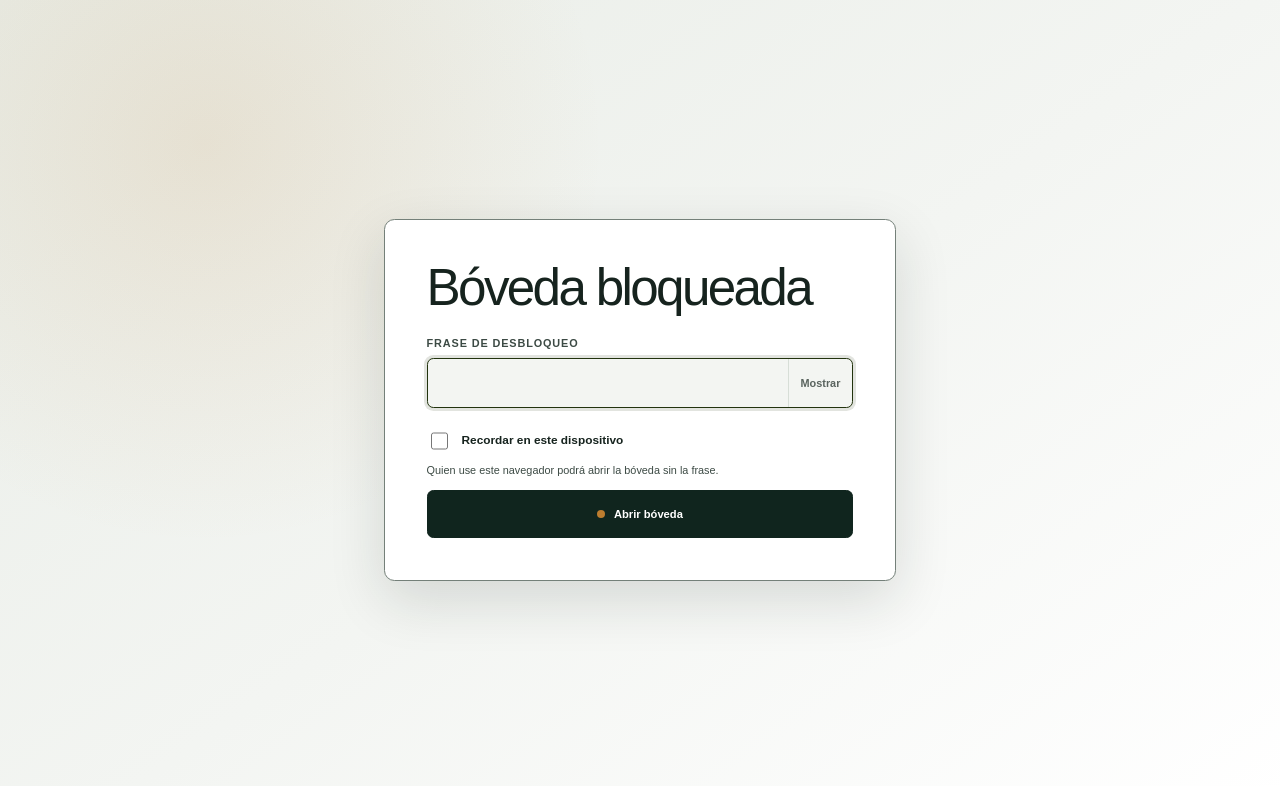
Test: App integration › opens a direct URL below a Vite base path
In the password field labelled "Frase de desbloqueo": (608, 383) [428,359,788,407], type "correct horse battery staple"
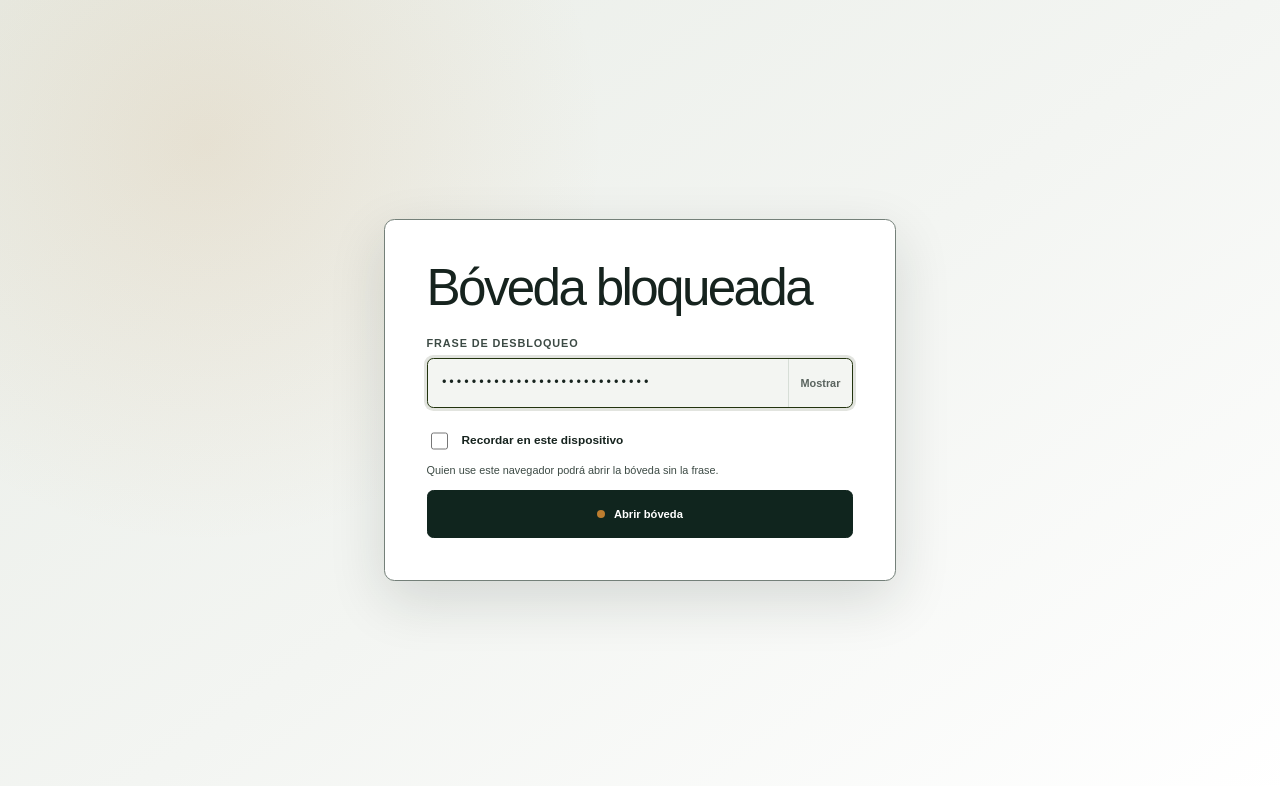
Click the button "Abrir bóveda": (640, 514) [427,490,853,538]
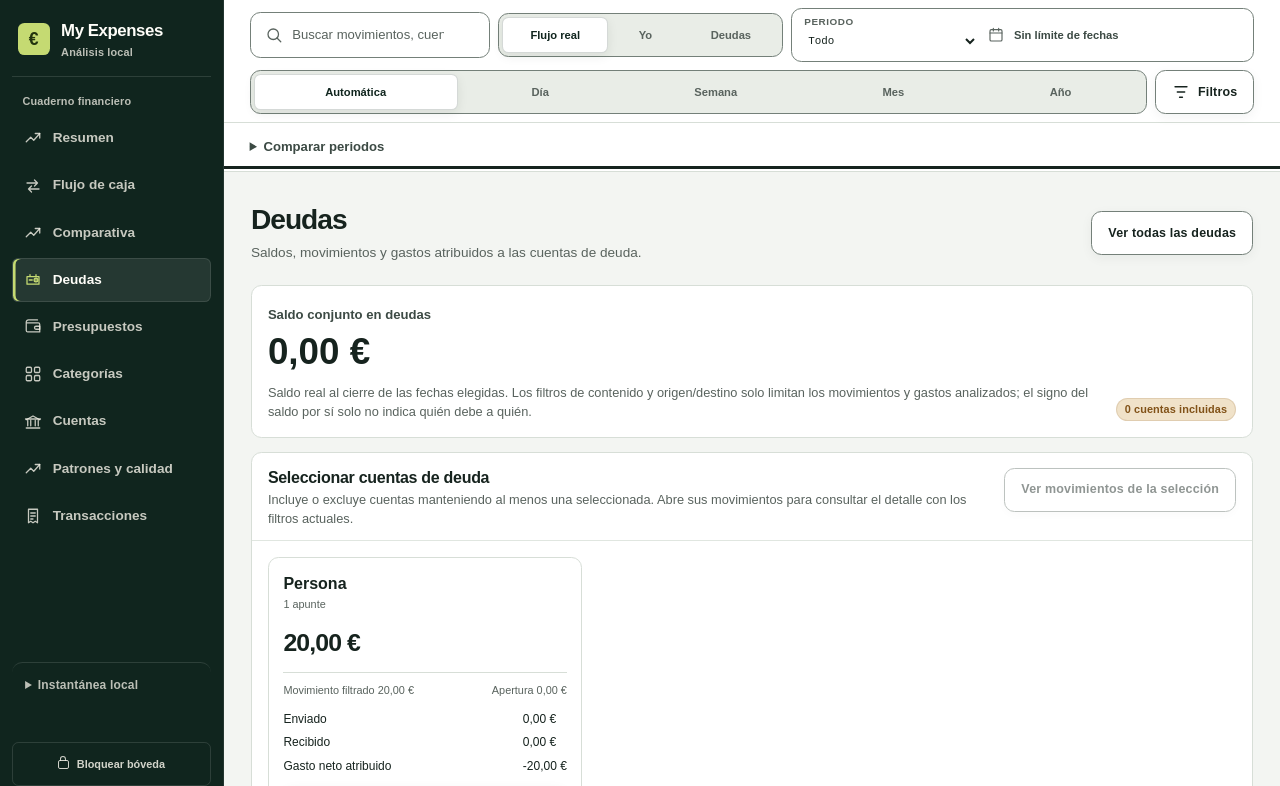
Check: the heading "Deudas" is shown, box [251,204,347,235]
